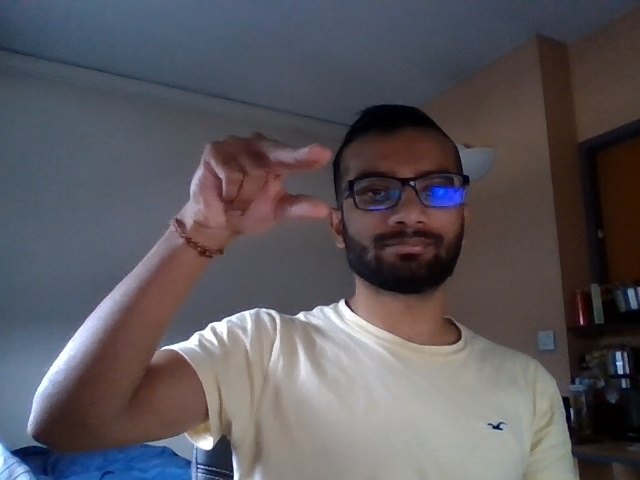No: (174, 119, 349, 239)
